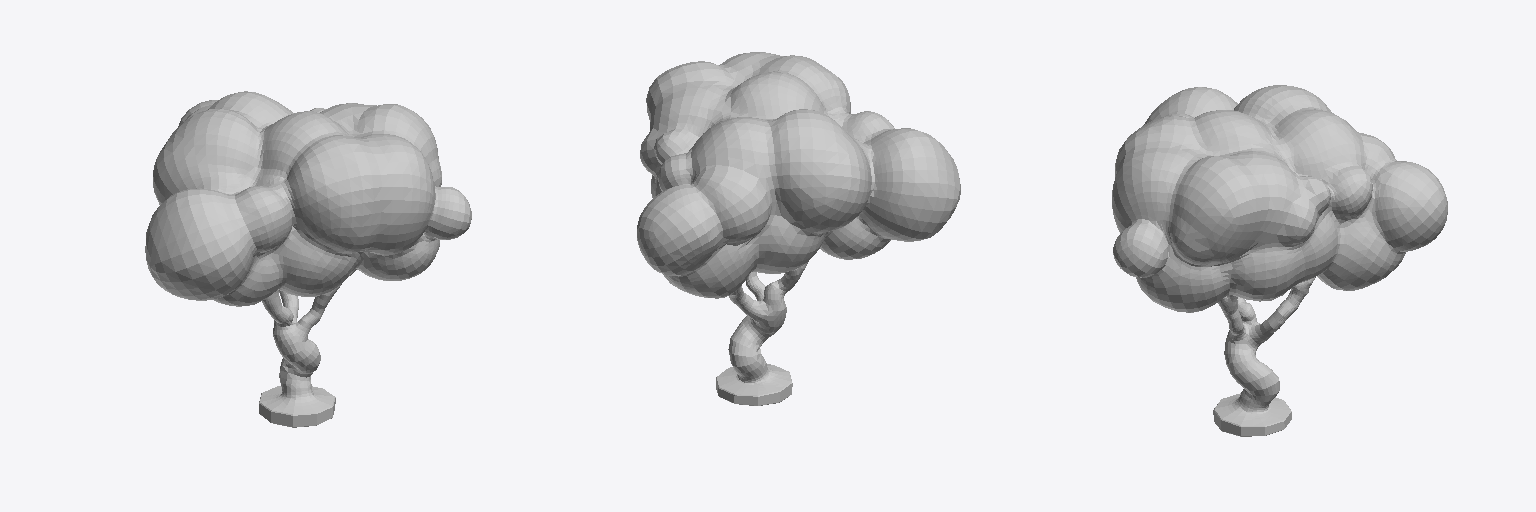
File: tree_12.obj
3 renders of one model, left to right at view 1: azimuth 30°, elevation 25°; view 2: azimuth 150°, elevation 25°; view 3: azimuth 270°, elevation 25°, orthographic.
Parts seen in each view (by area): view 1: leaves_1, trunk_1; view 2: leaves_1, trunk_1; view 3: leaves_1, trunk_1.
Part boxes in pixels (x1,y1,x2,y2): leaves_1: (145,91,471,306); trunk_1: (259,269,356,427); leaves_1: (637,52,960,298); trunk_1: (716,261,808,405); leaves_1: (1112,85,1447,312); trunk_1: (1213,277,1315,436).
Bounding box in the file's own units: 5.28 × 5.3 × 5.29.